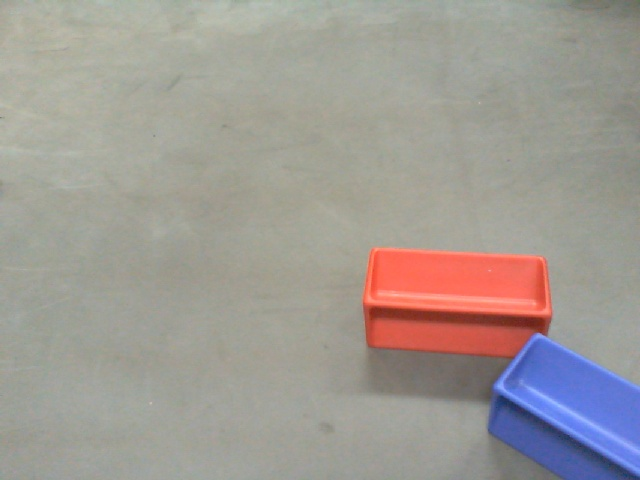BlueSample: (487, 333, 638, 480)
RedSample: (360, 246, 555, 357)
